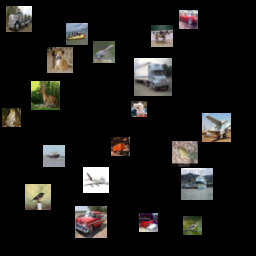airplane: (202, 113, 231, 142), (83, 167, 109, 193)
automobile: (75, 206, 107, 238), (139, 213, 158, 232), (179, 10, 198, 29)
bird: (25, 184, 51, 210), (93, 41, 115, 63), (183, 216, 202, 235)
deer: (31, 81, 60, 110)
dog: (47, 47, 73, 73), (131, 101, 147, 117)
frog: (172, 141, 198, 167), (2, 108, 21, 127)
ship: (181, 168, 213, 200), (66, 23, 88, 45), (43, 145, 65, 167)
